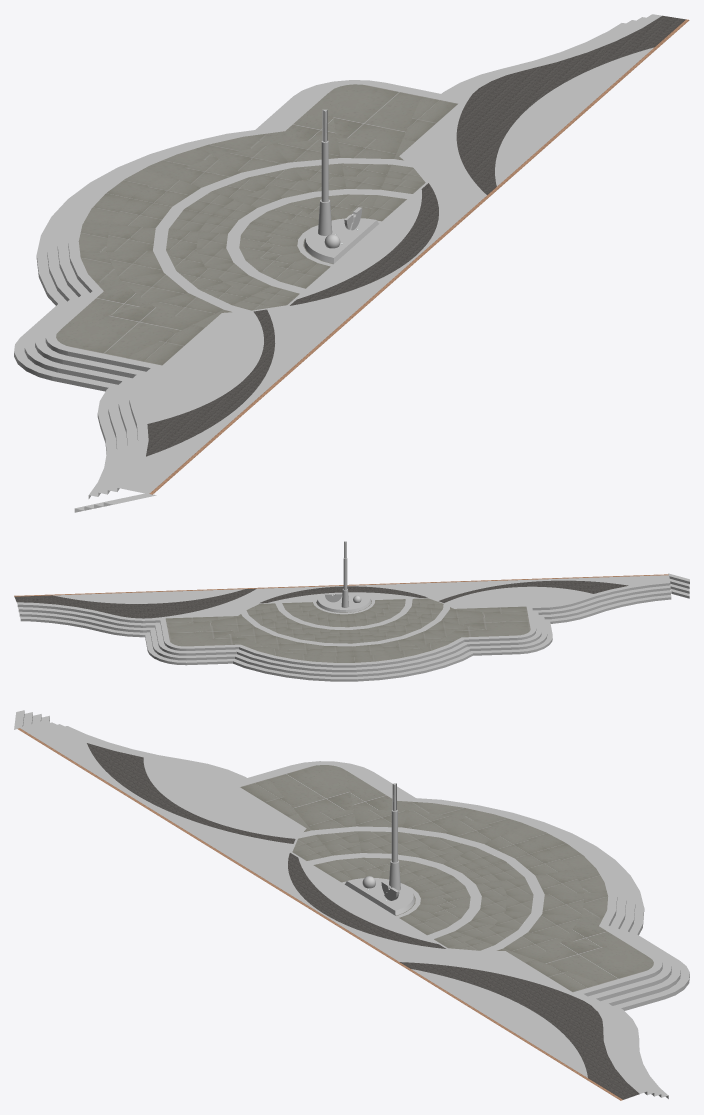
The model's file is 광안리 앞바다.fbx.
3 views of the same model, one above another, from view 1: azimuth 30°, elevation 25°; view 2: azimuth 150°, elevation 25°; view 3: azimuth 270°, elevation 25° (orthographic). The views are drawn at different scales.
Parts seen in each view (by area): view 1: Group_138490, Group_138480, Group_138484, Group_138482, Group_138486, Group_138502, Group_138493; view 2: Group_138490, Group_138480, Group_138484, Group_138486, Group_138482, Group_138502, Group_138488, Group_138493; view 3: Group_138490, Group_138484, Group_138480, Group_138486, Group_138482, Group_138502, Group_138493.
Part boxes in pixels (bbox=[...]): Group_138490: bbox=[14, 14, 689, 498]; Group_138480: bbox=[56, 193, 250, 365]; Group_138484: bbox=[106, 84, 458, 208]; Group_138482: bbox=[166, 209, 333, 310]; Group_138486: bbox=[184, 163, 425, 233]; Group_138502: bbox=[304, 218, 378, 263]; Group_138493: bbox=[318, 109, 332, 235]; Group_138490: bbox=[14, 574, 671, 681]; Group_138480: bbox=[352, 604, 530, 662]; Group_138484: bbox=[165, 610, 355, 662]; Group_138486: bbox=[246, 602, 351, 643]; Group_138482: bbox=[346, 598, 443, 643]; Group_138502: bbox=[316, 598, 371, 612]; Group_138488: bbox=[668, 573, 689, 598]; Group_138493: bbox=[341, 541, 348, 607]; Group_138490: bbox=[17, 720, 689, 1100]; Group_138484: bbox=[481, 843, 653, 992]; Group_138480: bbox=[240, 765, 565, 860]; Group_138486: bbox=[396, 861, 533, 950]; Group_138482: bbox=[292, 831, 504, 888]; Group_138502: bbox=[345, 878, 414, 915]; Group_138493: bbox=[389, 783, 400, 890].
Size of the model in its own units: 8353 by 1221 by 6016.
